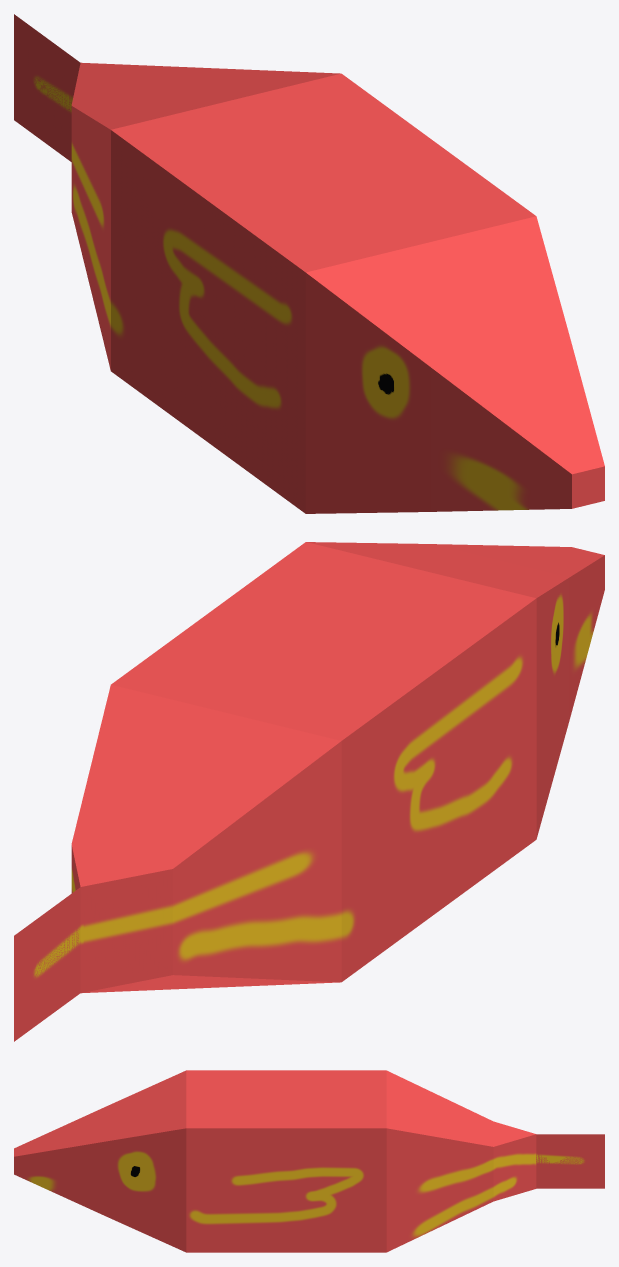
Rendered from fish.glb.
3 renders of one model, top to bottom at view 1: azimuth 30°, elevation 25°; view 2: azimuth 150°, elevation 25°; view 3: azimuth 270°, elevation 25°, orthographic. The views are drawn at different scales.
Parts seen in each view (by area): view 1: Cube; view 2: Cube; view 3: Cube.
Boxes of the visible parts, <box> form: Cube: <box>14,14,604,513</box>; Cube: <box>14,542,604,1041</box>; Cube: <box>14,1070,604,1252</box>.
Bounding box in the file's own units: 2 × 2 × 8.63.
1 material, 1 textured.
